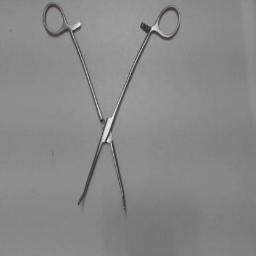Lahey Forceps: (36, 2, 184, 220)
